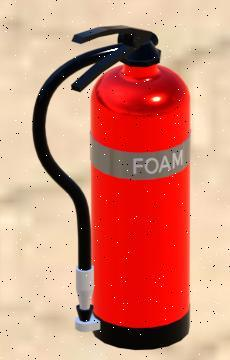Fire Extinguisher: (22, 25, 222, 349)
